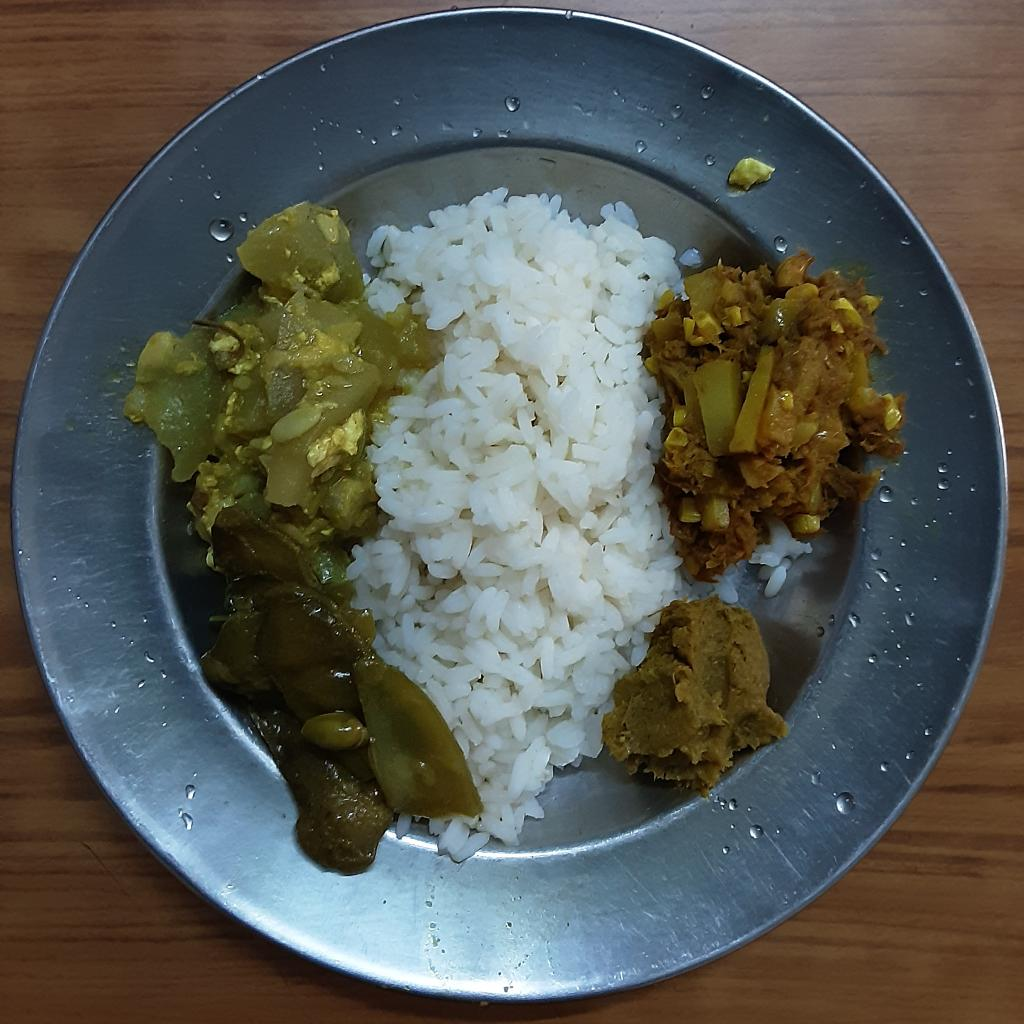lau: (118, 196, 433, 550)
rice: (346, 187, 680, 864)
shim: (200, 499, 483, 876)
vegetable: (647, 236, 908, 601)
vorta: (609, 602, 785, 784)
